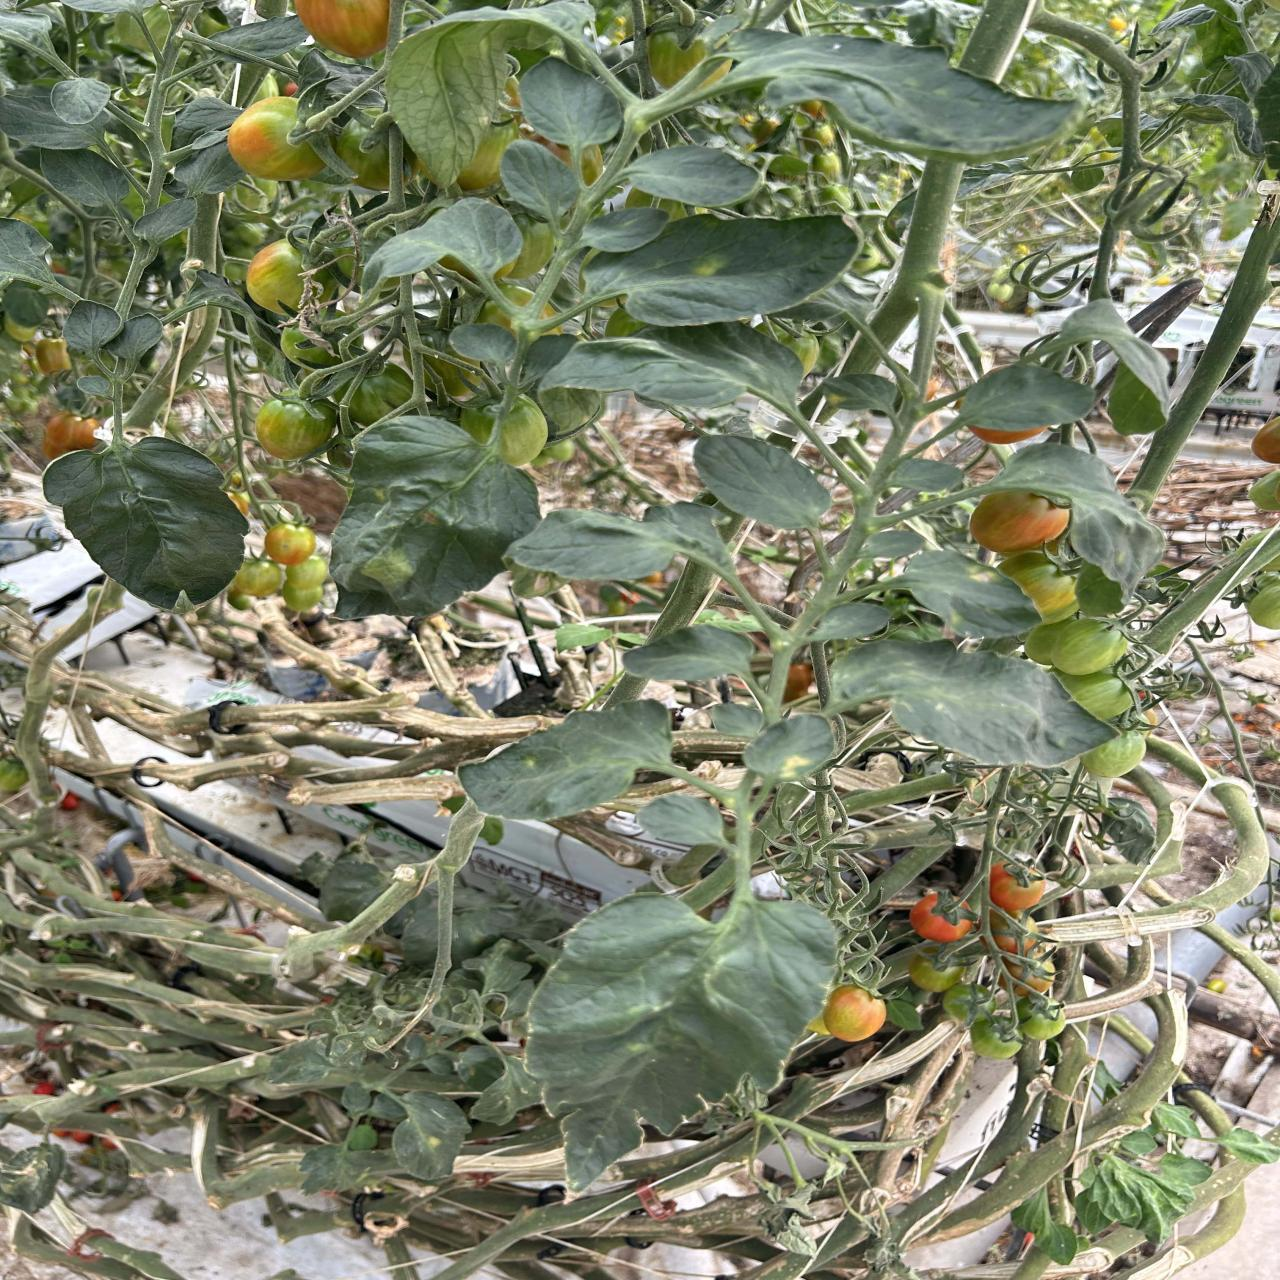Hoja: (386, 0, 593, 188), (42, 437, 247, 608), (362, 198, 523, 286), (519, 57, 624, 156), (501, 141, 579, 220)
Hoja rugoso: (723, 30, 1087, 163), (332, 415, 539, 615), (838, 639, 1116, 767), (581, 216, 858, 326), (461, 701, 672, 821), (743, 714, 836, 781)
Pedunculo: (1128, 205, 1280, 512), (832, 158, 965, 400), (649, 560, 717, 639), (801, 384, 842, 422), (719, 506, 750, 542), (797, 387, 828, 422), (770, 435, 796, 452), (621, 682, 639, 699), (702, 491, 717, 505)
Tomate: (969, 491, 1070, 554), (1027, 619, 1128, 675), (999, 551, 1077, 620), (1055, 672, 1133, 722), (498, 394, 547, 465), (1081, 730, 1146, 778), (454, 406, 498, 444)
Tomate Rugoso: (227, 96, 325, 181), (294, 0, 390, 59), (256, 394, 335, 461), (245, 238, 304, 313), (41, 413, 101, 459), (264, 523, 315, 566), (1024, 620, 1070, 665), (232, 559, 284, 598)
